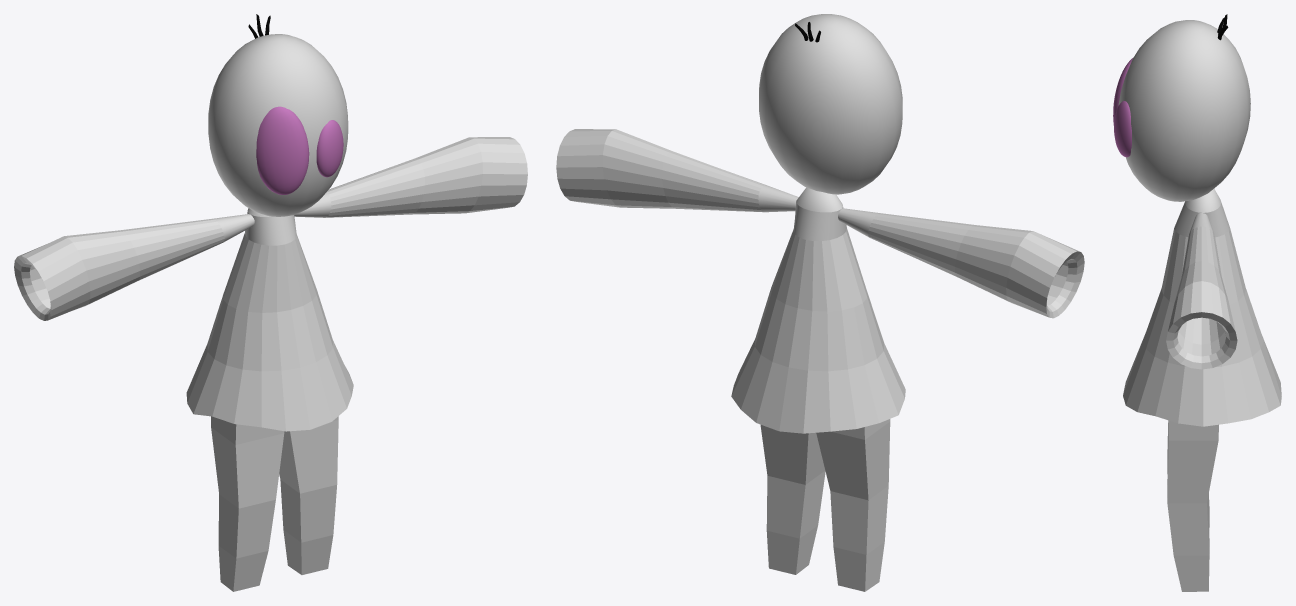
File: ele.fbx
3 views of the same model, side by side, from view 1: azimuth 30°, elevation 25°; view 2: azimuth 150°, elevation 25°; view 3: azimuth 270°, elevation 25° (orthographic). The views are drawn at different scales.
Visible parts, largest first — view 1: pCylinder1, pSphere1, polySurface2, polySurface1, polySurface8, polySurface7, polySurface5, polySurface6; view 2: pCylinder1, pSphere1, polySurface2, polySurface1, polySurface8, polySurface7; view 3: pSphere1, pCylinder1, polySurface1, polySurface7, polySurface6, polySurface5.
Part boxes in pixels (x1,y1,x2,y2): pCylinder1: (186,208,353,431); pSphere1: (208,34,348,216); polySurface2: (14,214,254,320); polySurface1: (294,137,527,217); polySurface8: (211,416,284,591); polySurface7: (279,416,338,574); polySurface5: (256,106,309,194); polySurface6: (316,120,343,177); pCylinder1: (731,187,905,433); pSphere1: (759,14,902,194); polySurface2: (838,208,1084,318); polySurface1: (556,129,798,212); polySurface8: (816,419,890,591); polySurface7: (760,425,825,574); pSphere1: (1118,20,1250,201); pCylinder1: (1123,188,1281,426); polySurface1: (1166,213,1237,369); polySurface7: (1167,420,1218,591); polySurface6: (1114,101,1131,157); polySurface5: (1113,58,1132,125).
Size of the model in its own units: 18.21 by 19.6 by 5.41.
